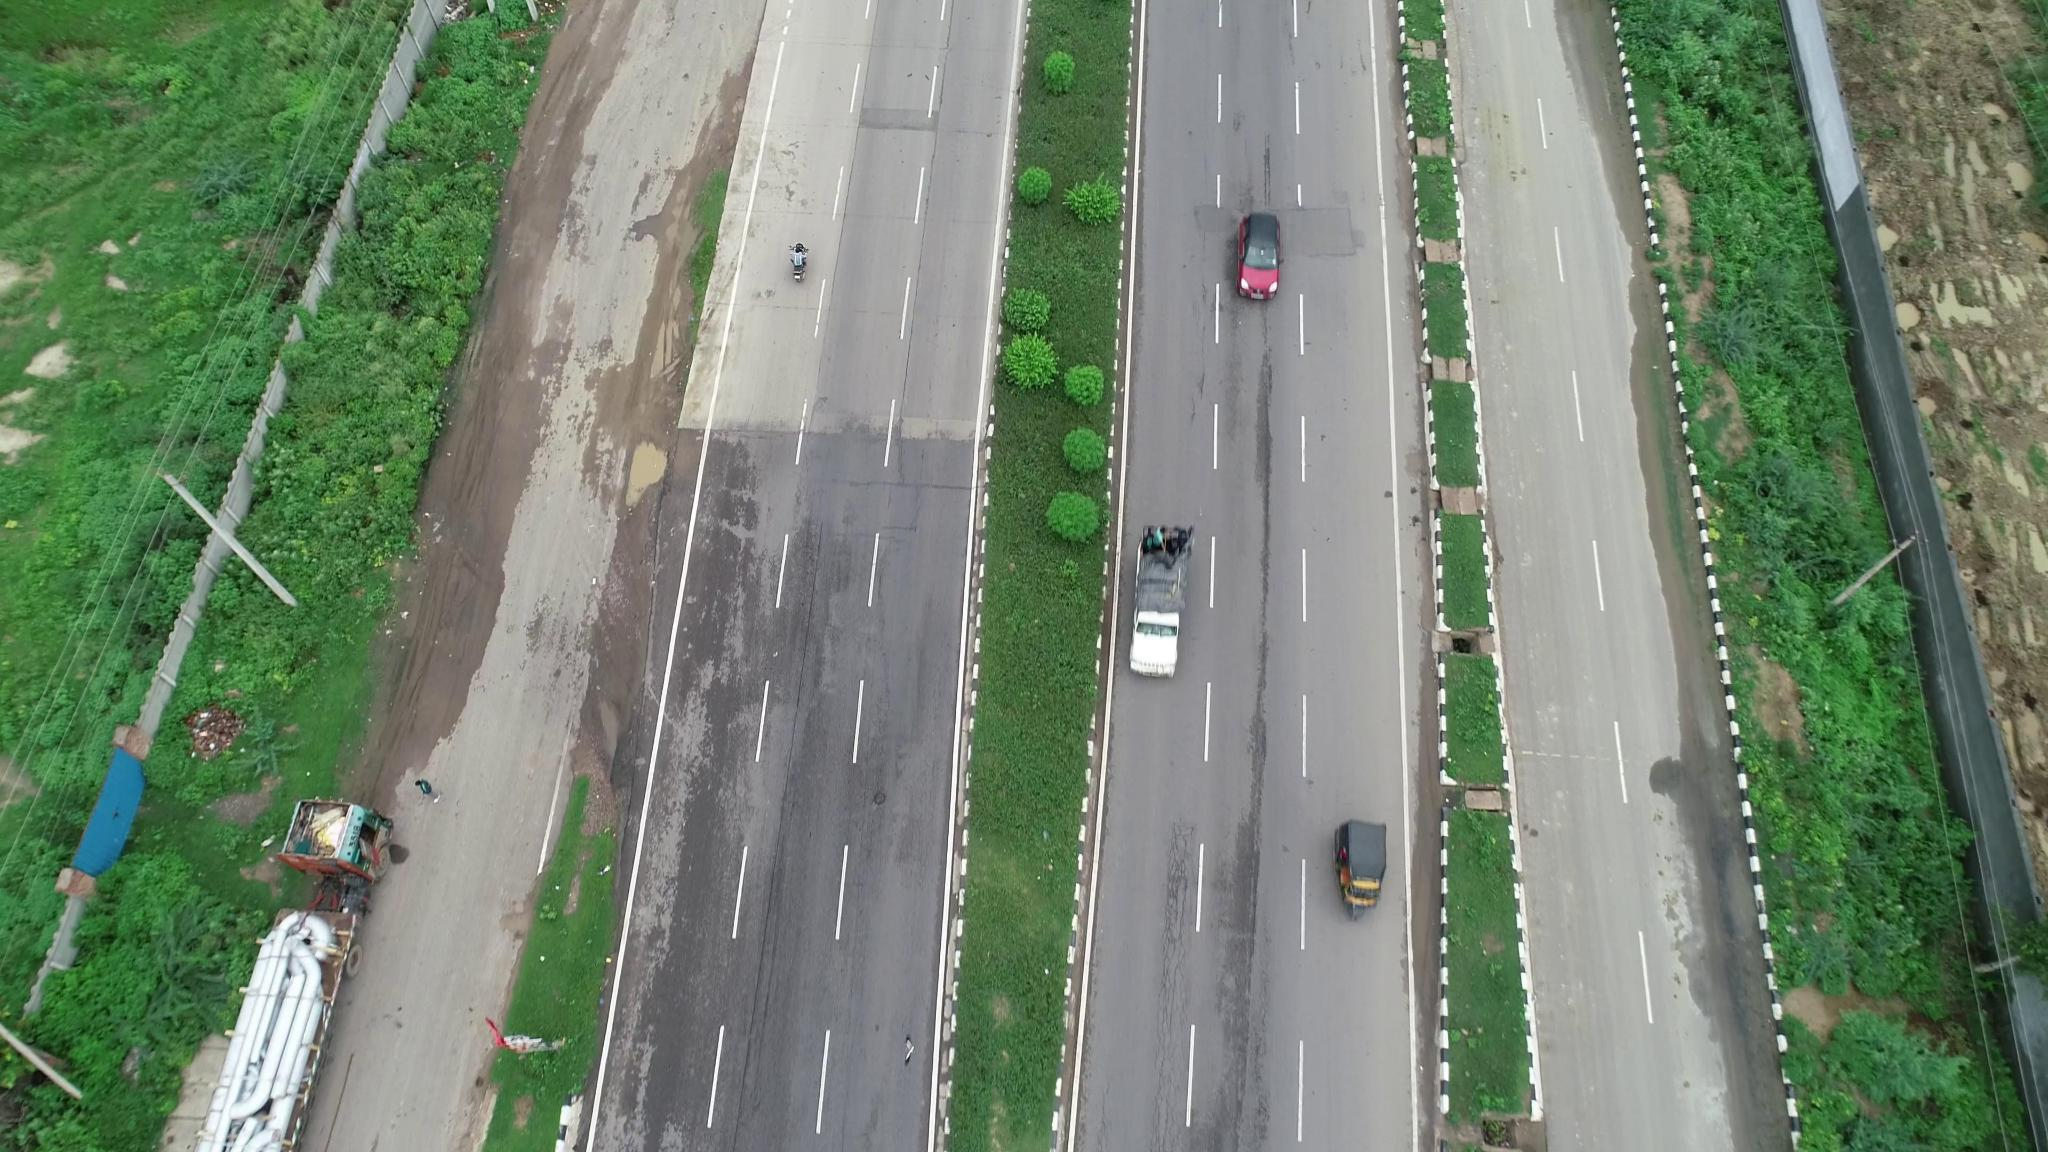Cracks: (1139, 816, 1201, 1129)
Ravelling: (1214, 734, 1283, 1134), (1229, 366, 1279, 700)
